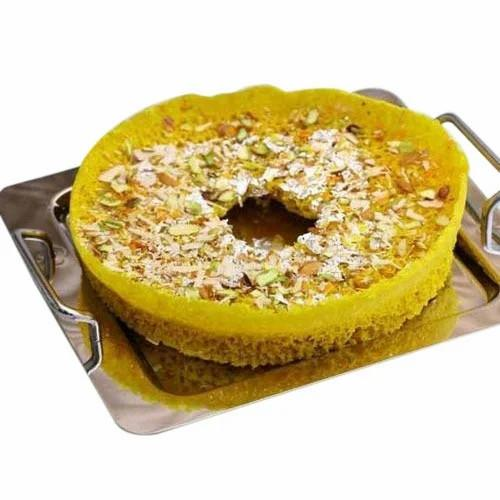Ghevar: (68, 85, 468, 368)
